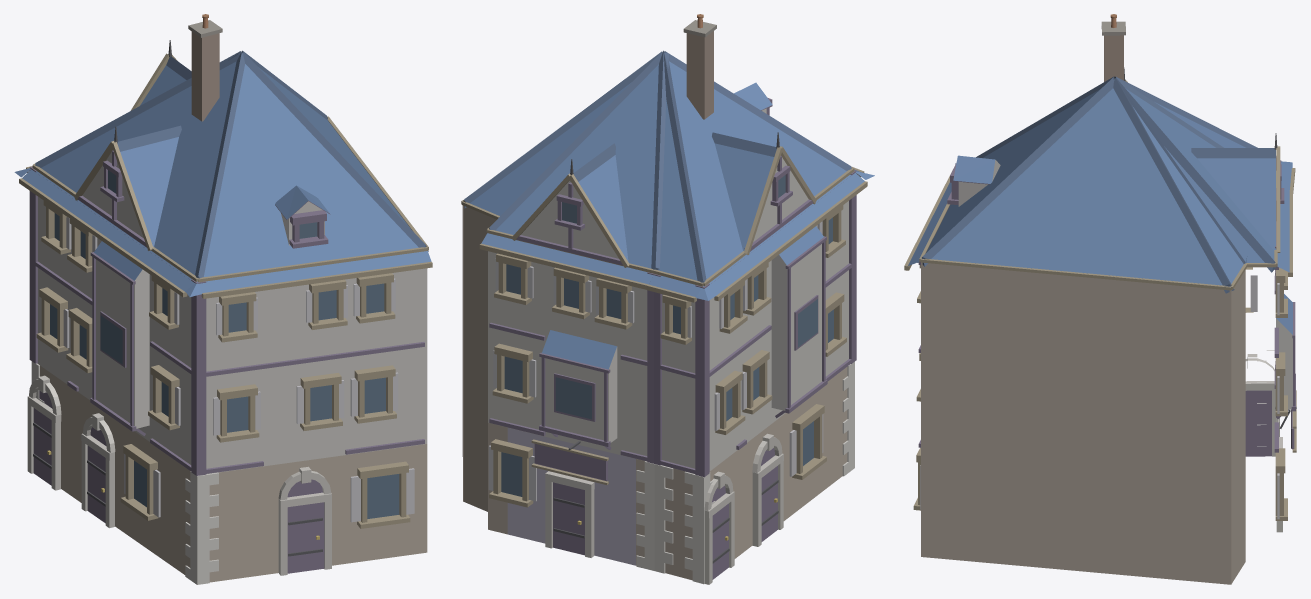
Rendered from b024_closed.glb.
The picture shows the model from 3 angles, left to right: view 1: azimuth 30°, elevation 25°; view 2: azimuth 150°, elevation 25°; view 3: azimuth 270°, elevation 25°; orthographic projection. The views are drawn at different scales.
Visible parts, largest first — view 1: B024_visible; view 2: B024_visible; view 3: B024_visible.
Boxes of the visible parts, box(x1,y1,x2,y2) form: B024_visible: box(14, 14, 432, 584); B024_visible: box(461, 14, 874, 584); B024_visible: box(904, 14, 1296, 584).
Size of the model in its own units: 10.08 by 16.66 by 12.26.
